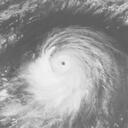cyclone: (37, 29, 101, 108)
